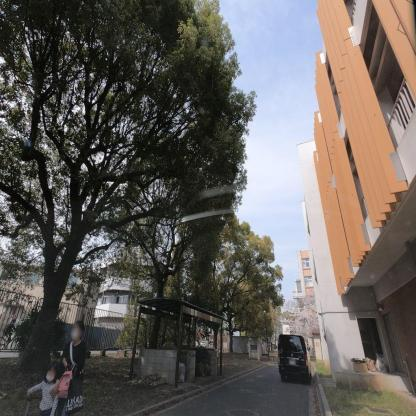Someiyoshino: (274, 293, 324, 342)
